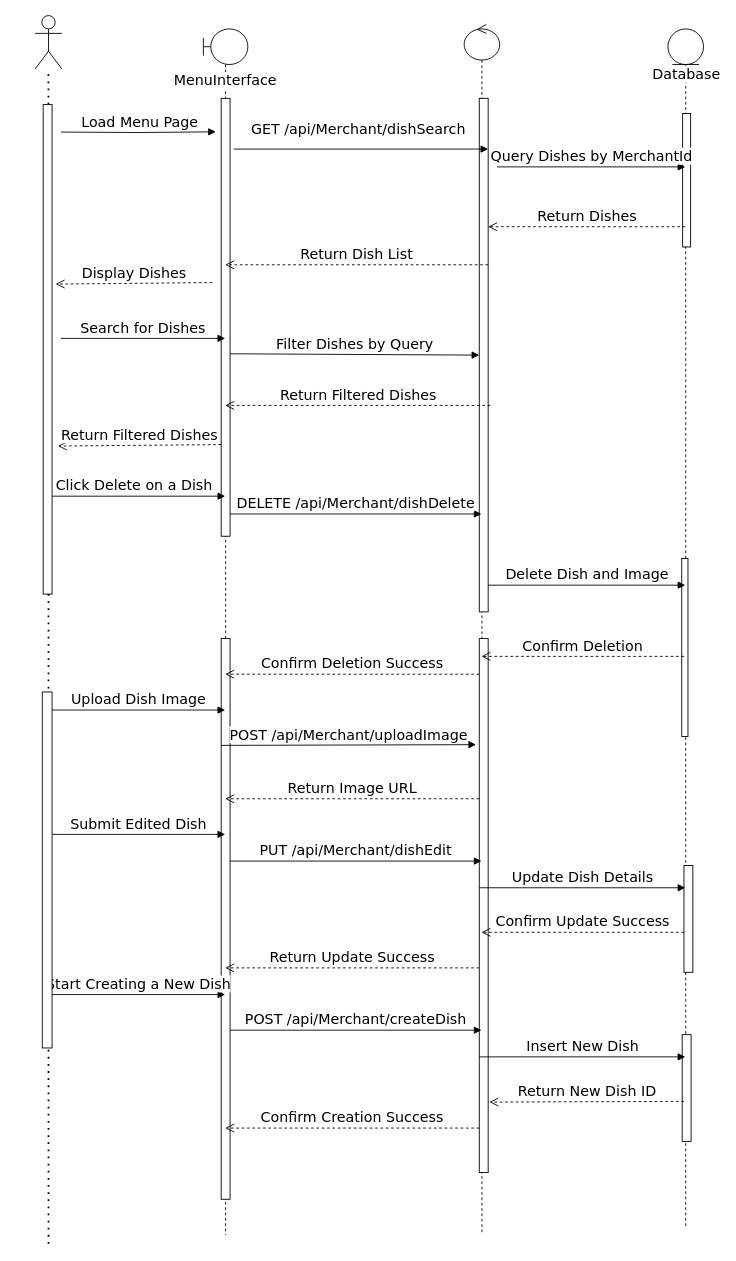
The diagram is 736 pixels wide and 1261 high, and some of its shapes have lost their labels. The centre of each missing label's shape, as x and y in pixels:
"BackendAPI" goes at (x=481, y=629).
"Merchant" goes at (x=48, y=42).
